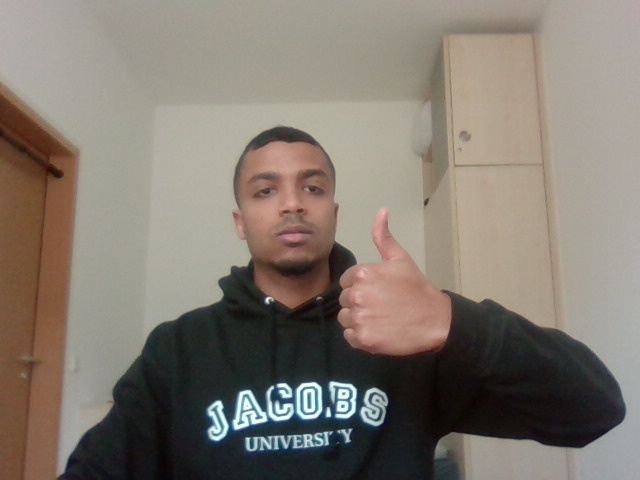perfect: (326, 200, 462, 377)
